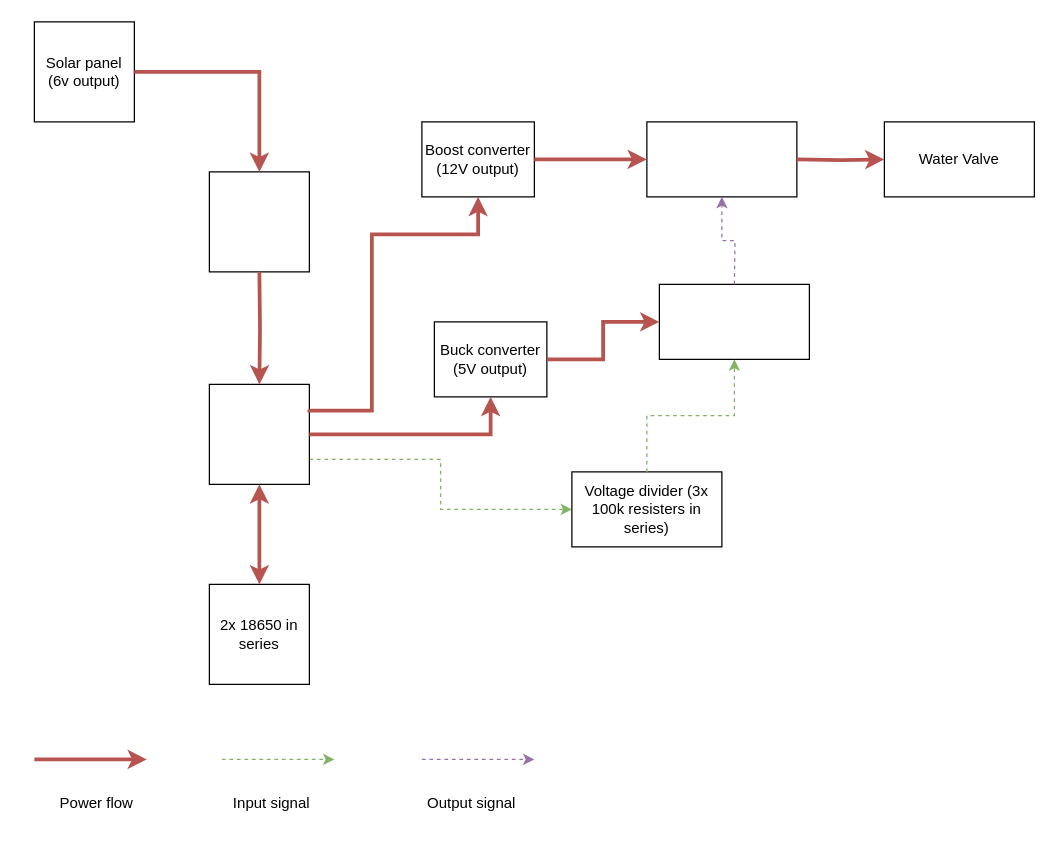
Image size: 1056x844. Some labels were removed from this diagram. Here are the shapes that lost their labels. From the top down, the box of each, then its label:
(646, 121, 797, 197): MOSFET switch module (make sure to add diode protection)
(208, 171, 309, 272): Boost converter (8.4v output)
(658, 283, 809, 359): ESP32
(208, 383, 309, 484): 18650 balance board
